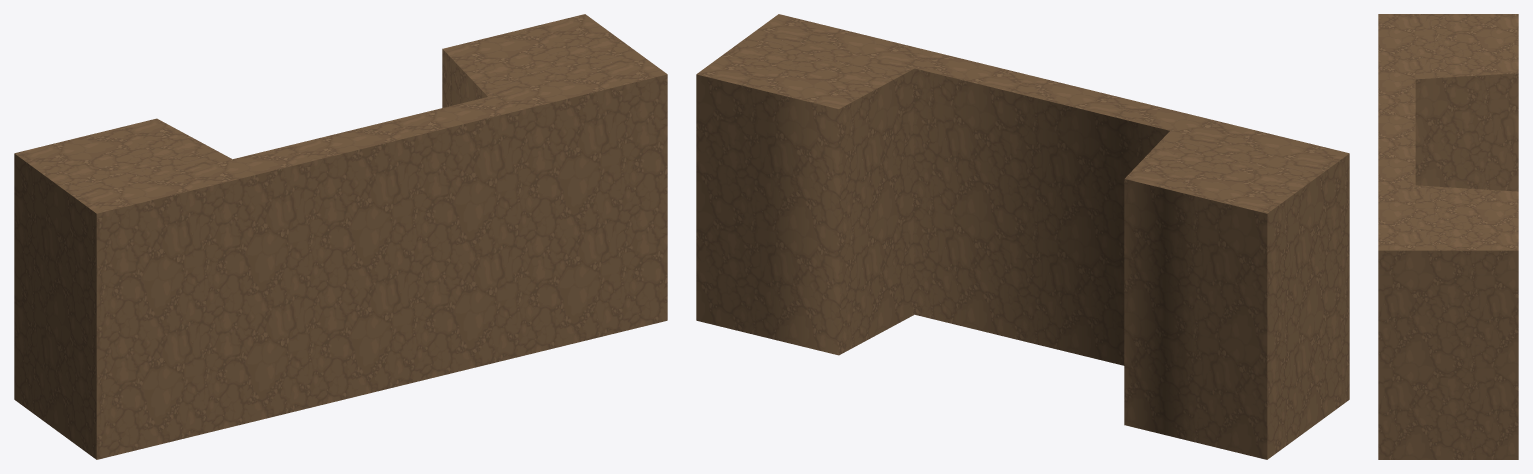
The model's file is Background.fbx.
3 renders of one model, left to right at view 1: azimuth 30°, elevation 25°; view 2: azimuth 150°, elevation 25°; view 3: azimuth 270°, elevation 25°, orthographic. The views are drawn at different scales.
Visible parts, largest first — view 1: Background; view 2: Background; view 3: Background.
Part boxes in pixels (x1,y1,x2,y2): Background: (14, 14, 667, 459); Background: (696, 14, 1349, 459); Background: (1378, 14, 1518, 459).
Size of the model in its own units: 7526 by 3101 by 1884.
